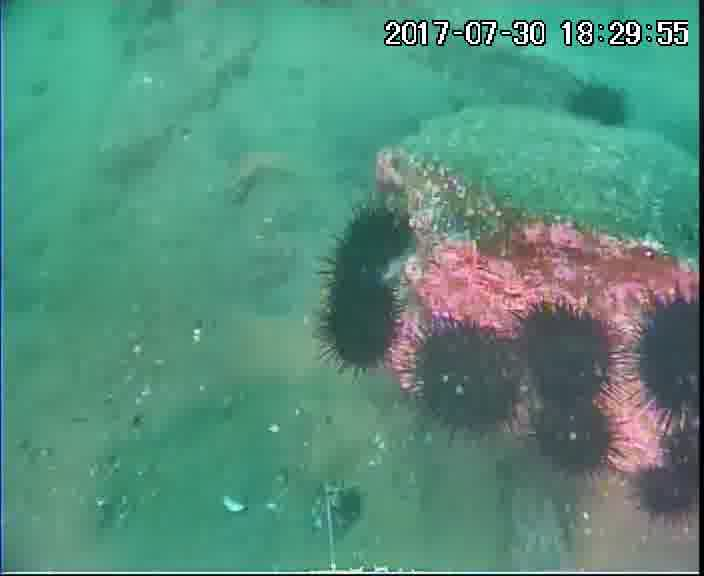echinus: (402, 317, 533, 434), (620, 295, 704, 437), (516, 300, 629, 405), (316, 270, 404, 378), (528, 398, 617, 481), (325, 205, 413, 287), (630, 457, 704, 523), (566, 78, 630, 132)
